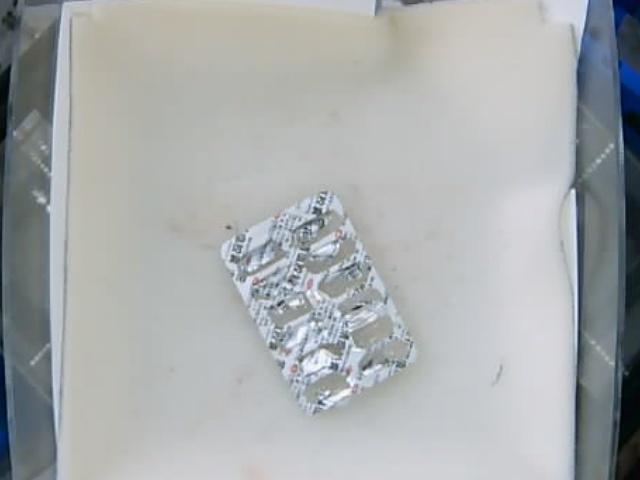Medicine: (218, 191, 416, 413)
